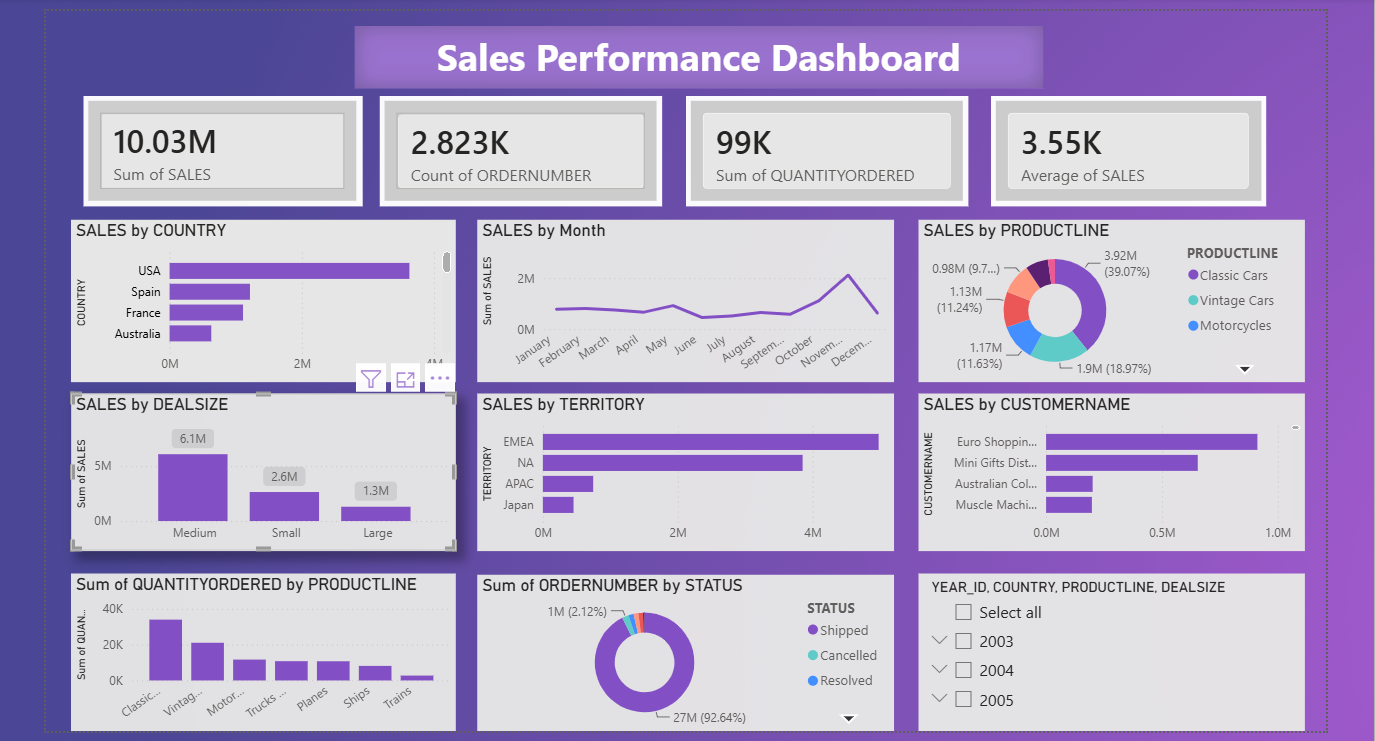

What the dashboard file says about the page in this screenshot:
{"tool":"powerbi","page":{"name":"Page 2","canvas":[1280,720],"ordinal":1},"visuals":[{"type":"cardVisual","fields":{"Data":["Sum(sales_data_sample.SALES)"]},"box":[37.9,85.6,278.8,110.1],"z":0},{"type":"cardVisual","fields":{"Data":["CountNonNull(sales_data_sample.ORDERNUMBER)"]},"box":[333.8,85.6,282.5,110.1],"z":1000},{"type":"cardVisual","fields":{"Data":["Sum(sales_data_sample.QUANTITYORDERED)"]},"box":[639.5,85.6,282.5,110.1],"z":2000},{"type":"cardVisual","fields":{"Data":["Avg(sales_data_sample.SALES)"]},"box":[945.2,85.6,275.1,110.1],"z":3000},{"type":"clusteredBarChart","title":"SALES by COUNTRY","fields":{"Category":["sales_data_sample.COUNTRY"],"Y":["Sum(sales_data_sample.SALES)"]},"box":[24.5,209.1,385.2,162.6],"z":4000},{"type":"lineChart","title":" SALES by Month","fields":{"Category":["sales_data_sample.ORDERDATE.Variation.Date Hierarchy.Month"],"Y":["Sum(sales_data_sample.SALES)"]},"box":[431.7,209.1,417,162.6],"z":5000},{"type":"donutChart","title":" SALES by PRODUCTLINE","fields":{"Category":["sales_data_sample.PRODUCTLINE"],"Y":["Sum(sales_data_sample.SALES)"]},"box":[873.1,209.1,386.4,162.6],"z":6000},{"type":"columnChart","title":" SALES by DEALSIZE","fields":{"Category":["sales_data_sample.DEALSIZE"],"Y":["Sum(sales_data_sample.SALES)"]},"box":[24.5,382.7,385.2,157.7],"z":7000},{"type":"barChart","title":"SALES by TERRITORY","fields":{"Category":["sales_data_sample.TERRITORY"],"Y":["Sum(sales_data_sample.SALES)"]},"box":[431.7,382.7,417,157.7],"z":8000},{"type":"barChart","title":" SALES by CUSTOMERNAME","fields":{"Category":["sales_data_sample.CUSTOMERNAME"],"Y":["Sum(sales_data_sample.SALES)"]},"box":[873.1,382.7,386.4,157.7],"z":9000},{"type":"columnChart","fields":{"Category":["sales_data_sample.PRODUCTLINE"],"Y":["Sum(sales_data_sample.QUANTITYORDERED)"]},"box":[24.5,562.5,385.2,157.7],"z":10000},{"type":"donutChart","fields":{"Category":["sales_data_sample.STATUS"],"Y":["Sum(sales_data_sample.ORDERNUMBER)"]},"box":[431.7,563.7,417,156.5],"z":11000},{"type":"slicer","fields":{"Values":["sales_data_sample.YEAR_ID","sales_data_sample.COUNTRY","sales_data_sample.PRODUCTLINE","sales_data_sample.DEALSIZE"]},"box":[873.1,562.5,386.4,157.7],"z":12000},{"type":"textbox","box":[308.2,14.7,688.5,62.4],"z":13000}]}

Visuals, with their boxes in screenshot pixels (x1, y1, x2, y2):
cardVisual - Sum(sales_data_sample.SALES): [74,90,357,202]
cardVisual - CountNonNull(sales_data_sample.ORDERNUMBER): [375,90,661,202]
cardVisual - Sum(sales_data_sample.QUANTITYORDERED): [685,90,972,202]
cardVisual - Avg(sales_data_sample.SALES): [995,90,1275,202]
"SALES by COUNTRY" clusteredBarChart: [61,216,452,381]
" SALES by Month" lineChart: [474,216,897,381]
" SALES by PRODUCTLINE" donutChart: [922,216,1314,381]
" SALES by DEALSIZE" columnChart: [61,392,452,552]
"SALES by TERRITORY" barChart: [474,392,897,552]
" SALES by CUSTOMERNAME" barChart: [922,392,1314,552]
columnChart - sales_data_sample.PRODUCTLINE x Sum(sales_data_sample.QUANTITYORDERED): [61,575,452,735]
donutChart - sales_data_sample.STATUS x Sum(sales_data_sample.ORDERNUMBER): [474,576,897,735]
slicer - sales_data_sample.YEAR_ID x sales_data_sample.COUNTRY: [922,575,1314,735]
textbox: [349,19,1048,82]
